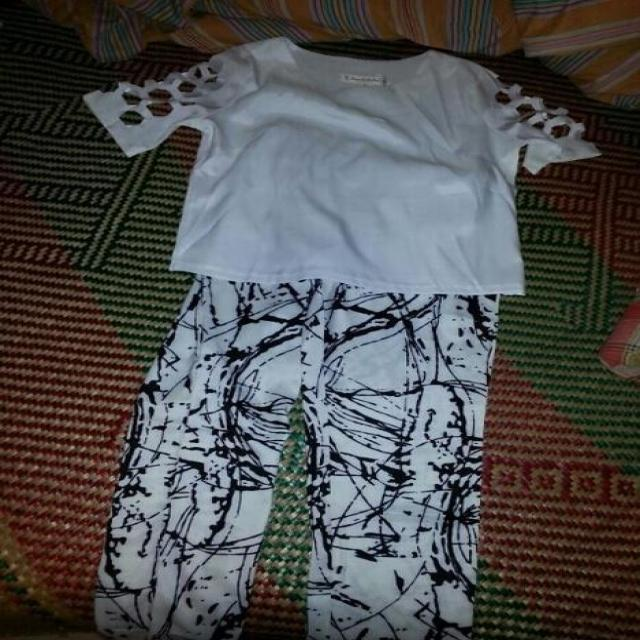short sleeve top: (86, 41, 598, 291)
trousers: (90, 255, 490, 638)
